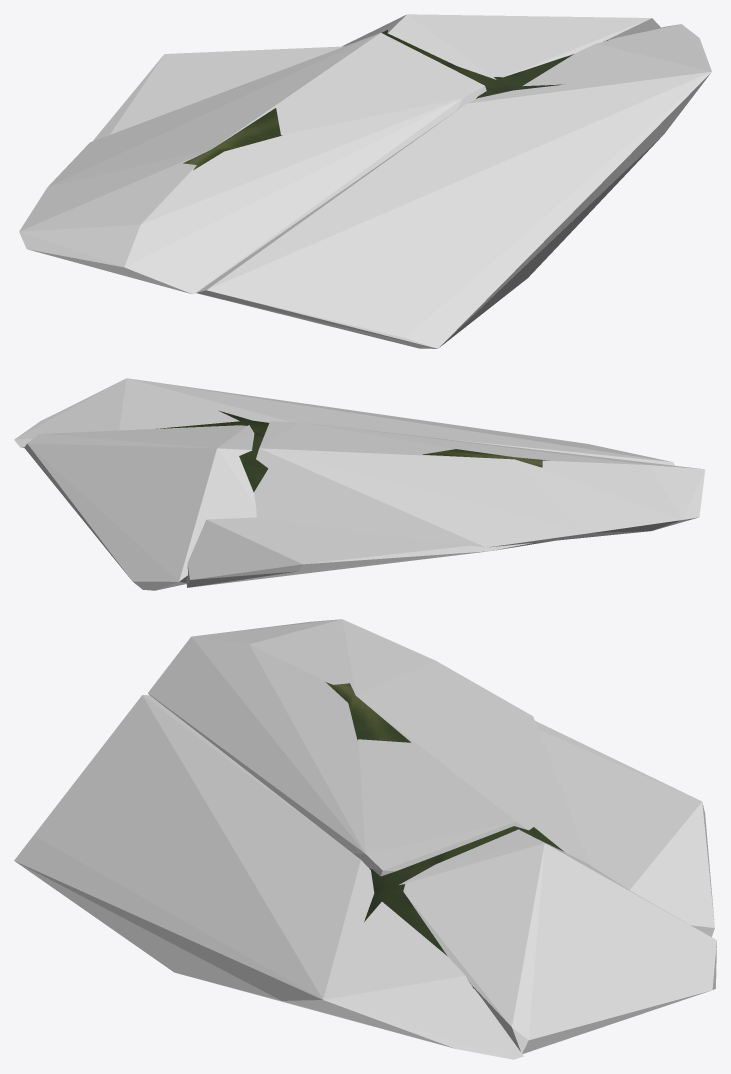
The model's file is SM_Leaf_04.fbx.
3 renders of one model, top to bottom at view 1: azimuth 30°, elevation 25°; view 2: azimuth 150°, elevation 25°; view 3: azimuth 270°, elevation 25°, orthographic. The views are drawn at different scales.
Parts seen in each view (by area): view 1: SM_Leaf_04_ConvexHulls, SM_Leaf_04_LOD0; view 2: SM_Leaf_04_ConvexHulls, SM_Leaf_04_LOD0; view 3: SM_Leaf_04_ConvexHulls, SM_Leaf_04_LOD0.
Part boxes in pixels (x1,y1,x2,y2): SM_Leaf_04_ConvexHulls: [19, 14, 711, 348]; SM_Leaf_04_LOD0: [183, 30, 607, 170]; SM_Leaf_04_ConvexHulls: [14, 378, 705, 590]; SM_Leaf_04_LOD0: [156, 410, 548, 492]; SM_Leaf_04_ConvexHulls: [14, 619, 716, 1059]; SM_Leaf_04_LOD0: [325, 682, 563, 988].
Size of the model in its own units: 23.95 by 17.2 by 4.13.
